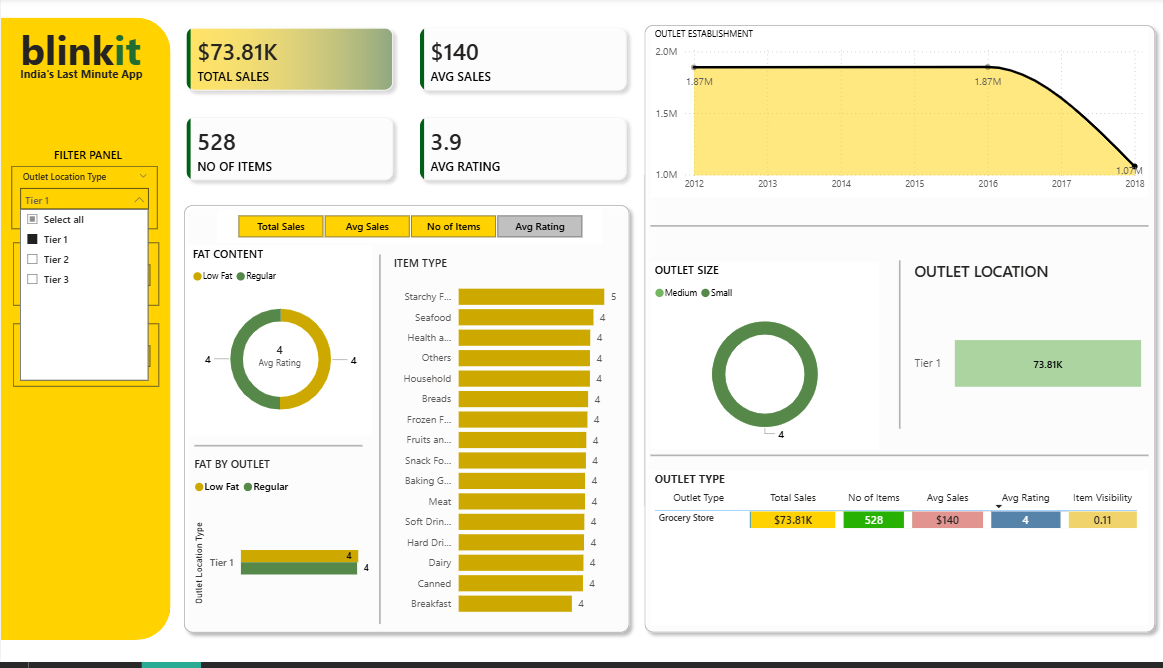

The page's visual inventory and layout, read from the dashboard file:
{"tool":"powerbi","page":{"name":"Page 1","canvas":[1400,800],"ordinal":0},"visuals":[{"type":"shape","box":[0,23.9,204.3,750],"z":0},{"type":"cardVisual","fields":{"Data":["BlinkIT Grocery Data.Total Sales","BlinkIT Grocery Data.Avg Sales","BlinkIT Grocery Data.No of Items","BlinkIT Grocery Data.Avg Rating"]},"box":[211.9,23.8,554.8,209.5],"z":1000},{"type":"textbox","box":[17.4,23.9,171.3,79.7],"z":2000},{"type":"shape","box":[211.9,240.5,554.8,533.3],"z":3000},{"type":"textbox","box":[17.5,76.6,159.4,28.1],"z":4000},{"type":"slicer","fields":{"Values":["Metrics.Metrics"]},"box":[259.5,254.8,464.3,40.5],"z":5000},{"type":"donutChart","title":"FAT CONTENT","fields":{"Y":["BlinkIT Grocery Data.Avg Rating"],"Category":["BlinkIT Grocery Data.Item Fat Content"]},"box":[226.2,297.6,221.4,228.6],"z":5000,"group":"g1"},{"type":"clusteredBarChart","title":"FAT BY OUTLET","fields":{"Y":["BlinkIT Grocery Data.Avg Rating"],"Category":["BlinkIT Grocery Data.Outlet Location Type"],"Series":["BlinkIT Grocery Data.Item Fat Content"]},"box":[227.7,551.2,220.5,204.2],"z":6000},{"type":"cardVisual","fields":{"Data":["BlinkIT Grocery Data.Avg Rating"]},"box":[266.7,383.3,140.5,95.2],"z":7000,"group":"g1"},{"type":"shape","box":[233.1,509.8,202.4,59.5],"z":7000},{"type":"shape","box":[445,309.8,23.8,445.2],"z":8000},{"type":"barChart","title":"ITEM TYPE","fields":{"Y":["BlinkIT Grocery Data.Avg Rating"],"Category":["BlinkIT Grocery Data.Item Type"]},"box":[468.9,309.8,281,445.2],"z":9000},{"type":"shape","box":[766.7,23.8,633.3,750],"z":10000},{"type":"lineChart","title":"OUTLET ESTABLISHMENT","fields":{"Y":["Sum(BlinkIT Grocery Data.Outlet Establishment Year)"],"Category":["BlinkIT Grocery Data.Outlet Establishment Year"]},"box":[782.5,36.1,600,204.2],"z":11000},{"type":"shape","box":[783.3,264.3,600,21.4],"z":12000},{"type":"donutChart","title":"OUTLET SIZE","fields":{"Y":["BlinkIT Grocery Data.Avg Rating"],"Category":["BlinkIT Grocery Data.Outlet Size"]},"box":[783.3,317.5,275,225],"z":13000},{"type":"shape","box":[1077.1,317.1,11.4,202.9],"z":14000},{"type":"funnel","title":"OUTLET LOCATION","fields":{"Category":["BlinkIT Grocery Data.Outlet Location Type"],"Y":["Sum(BlinkIT Grocery Data.Sales)"]},"box":[1095.2,316.7,288.1,221.4],"z":15000},{"type":"shape","box":[783.3,540.5,600,21.4],"z":16000},{"type":"pivotTable","title":"OUTLET TYPE","fields":{"Rows":["BlinkIT Grocery Data.Outlet Type"],"Values":["BlinkIT Grocery Data.Total Sales","BlinkIT Grocery Data.No of Items","BlinkIT Grocery Data.Avg Sales","BlinkIT Grocery Data.Avg Rating","Avg(BlinkIT Grocery Data.Item Visibility)"]},"box":[783.3,569,600,185.7],"z":17000},{"type":"slicer","fields":{"Values":["BlinkIT Grocery Data.Outlet Location Type"]},"box":[11.9,202.4,176.2,76.2],"z":18000},{"type":"slicer","fields":{"Values":["BlinkIT Grocery Data.Outlet Size"]},"box":[14.3,295.2,176.2,76.2],"z":19000},{"type":"slicer","fields":{"Values":["BlinkIT Grocery Data.Item Type"]},"box":[14.3,392.9,176.2,76.2],"z":20000},{"type":"group","id":"g1","title":"Group 1","box":[226.2,297.6,221.4,228.6],"z":21000},{"type":"textbox","box":[16.7,173.8,145.2,28.6],"z":22000}]}

Visuals, with their boxes in screenshot pixels (x1, y1, x2, y2), scaled from the page's 1400x800 canvas onto the 1163x668 screenshot:
shape: (0, 20, 170, 646)
cardVisual - BlinkIT Grocery Data.Total Sales x BlinkIT Grocery Data.Avg Sales: (176, 20, 637, 195)
textbox: (14, 20, 157, 87)
shape: (176, 201, 637, 646)
textbox: (15, 64, 147, 87)
slicer - Metrics.Metrics: (216, 213, 601, 247)
"FAT CONTENT" donutChart: (188, 248, 372, 439)
"FAT BY OUTLET" clusteredBarChart: (189, 460, 372, 631)
cardVisual - BlinkIT Grocery Data.Avg Rating: (222, 320, 338, 400)
shape: (194, 426, 362, 475)
shape: (370, 259, 389, 630)
"ITEM TYPE" barChart: (390, 259, 623, 630)
shape: (637, 20, 1162, 646)
"OUTLET ESTABLISHMENT" lineChart: (650, 30, 1148, 201)
shape: (651, 221, 1149, 239)
"OUTLET SIZE" donutChart: (651, 265, 879, 453)
shape: (895, 265, 904, 434)
"OUTLET LOCATION" funnel: (910, 264, 1149, 449)
shape: (651, 451, 1149, 469)
"OUTLET TYPE" pivotTable: (651, 475, 1149, 630)
slicer - BlinkIT Grocery Data.Outlet Location Type: (10, 169, 156, 233)
slicer - BlinkIT Grocery Data.Outlet Size: (12, 246, 158, 310)
slicer - BlinkIT Grocery Data.Item Type: (12, 328, 158, 392)
"Group 1" group: (188, 248, 372, 439)
textbox: (14, 145, 134, 169)
